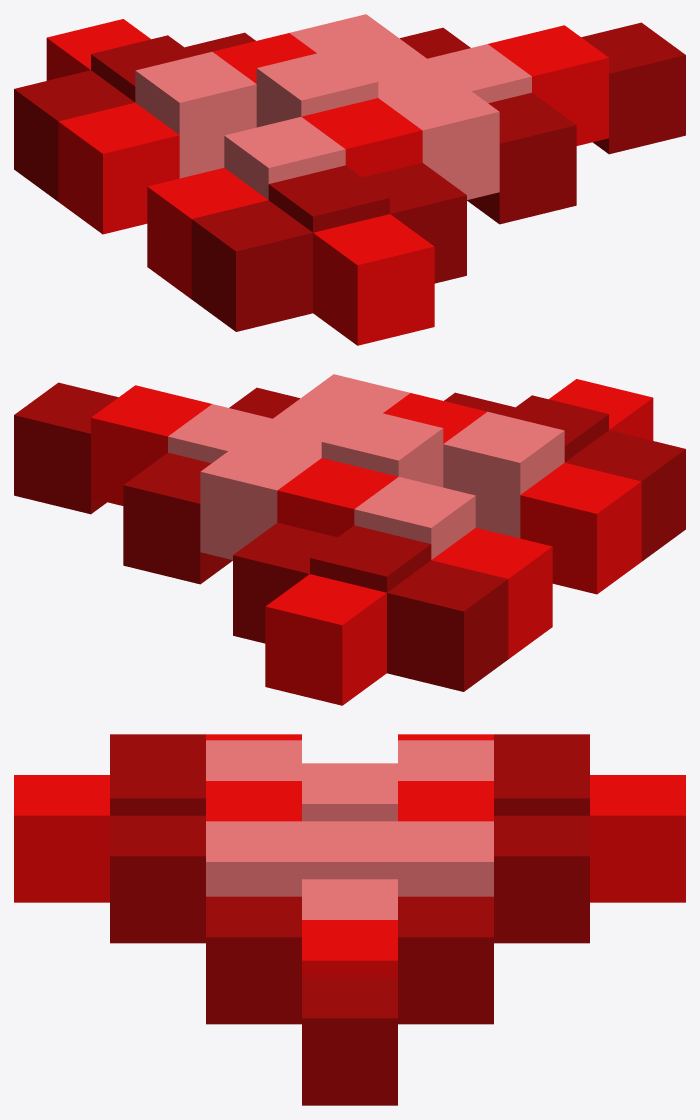
Rendered from RedBlock_Ship.fbx.
3 renders of one model, top to bottom at view 1: azimuth 30°, elevation 25°; view 2: azimuth 150°, elevation 25°; view 3: azimuth 270°, elevation 25°, orthographic. The views are drawn at different scales.
Visible parts, largest first — view 1: Cube.099, Cube.110, Cube.102; view 2: Cube.099, Cube.110, Cube.102; view 3: Cube.099, Cube.110, Cube.102.
Boxes of the visible parts, x1,y1,x2,y2 form: Cube.099: [14, 22, 685, 331]; Cube.110: [46, 19, 608, 345]; Cube.102: [135, 14, 531, 199]; Cube.099: [14, 382, 685, 691]; Cube.110: [91, 379, 653, 705]; Cube.102: [168, 374, 564, 559]; Cube.099: [110, 734, 589, 1105]; Cube.110: [14, 734, 685, 977]; Cube.102: [206, 740, 493, 919].
Bounding box in the file's own units: 7 × 1.6 × 7.
